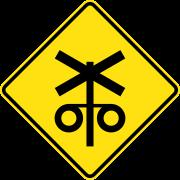Barrier Ahead: (10, 8, 173, 167)
